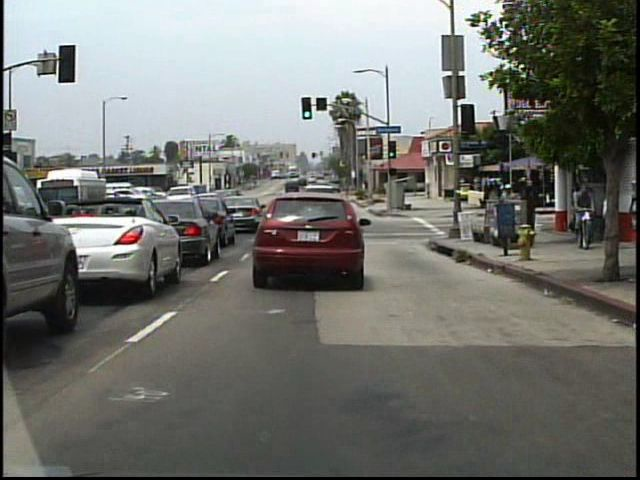person: (519, 176, 540, 240), (499, 180, 521, 236), (578, 182, 598, 237), (603, 188, 617, 245), (578, 183, 579, 237)
